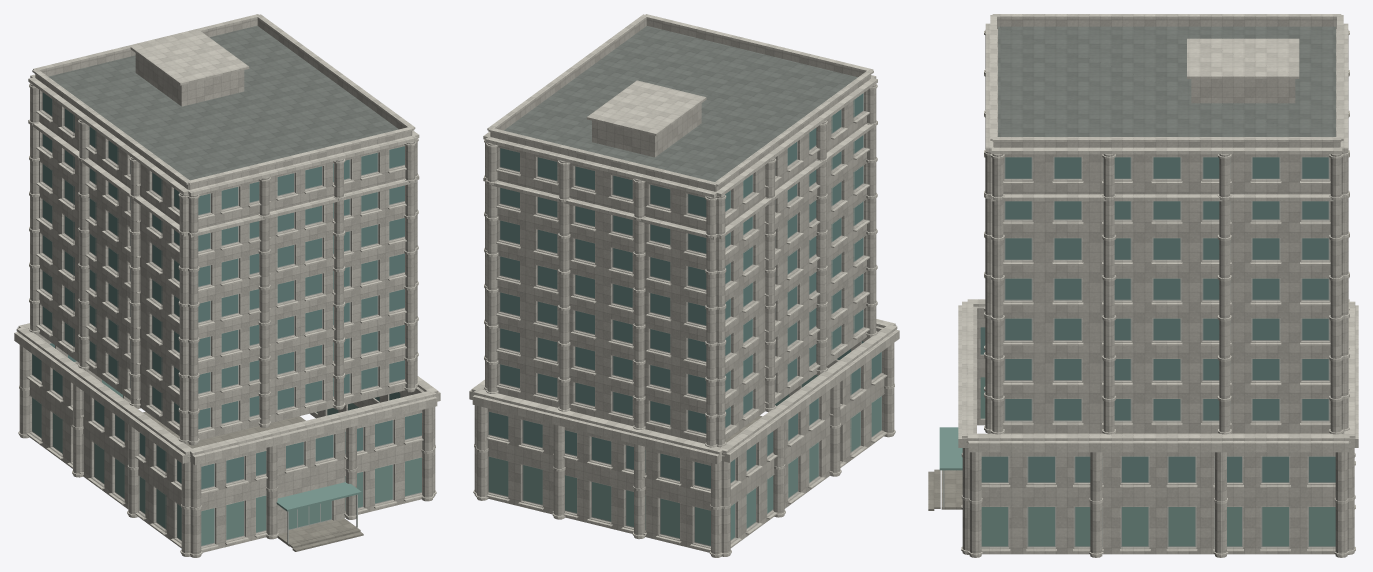
3 renders of one model, left to right at view 1: azimuth 30°, elevation 25°; view 2: azimuth 150°, elevation 25°; view 3: azimuth 270°, elevation 25°, orthographic. The views are drawn at different scales.
Parts seen in each view (by area): view 1: truth__stone, truth__trim, truth__glass, truth__roof, truth__entryglass, truth__frame, truth__threshold-main, truth__plinth, truth__stair-main; view 2: truth__stone, truth__trim, truth__glass, truth__roof, truth__entryglass, truth__frame; view 3: truth__stone, truth__trim, truth__glass, truth__roof, truth__entryglass, truth__frame, truth__threshold-main.
Boxes of the visible parts, x1,y1,x2,y2 form: truth__stone: (19,18,435,557); truth__trim: (14,14,440,556); truth__glass: (32,92,421,488); truth__roof: (48,25,398,180); truth__entryglass: (32,380,421,545); truth__frame: (32,92,421,546); truth__threshold-main: (277,518,357,546); truth__plinth: (143,411,305,448); truth__stair-main: (290,528,363,551); truth__stone: (474,18,894,557); truth__trim: (469,14,899,556); truth__glass: (489,93,881,488); truth__roof: (504,26,857,181); truth__entryglass: (489,375,881,545); truth__frame: (488,93,881,546); truth__stone: (962,18,1354,557); truth__trim: (958,14,1358,555); truth__glass: (980,157,1335,482); truth__roof: (998,26,1335,136); truth__entryglass: (939,377,1335,546); truth__frame: (943,157,1335,547); truth__threshold-main: (941,470,962,509).
Size of the model in its own units: 24.28 by 34.6 by 31.06.
7 materials, 4 textured.
